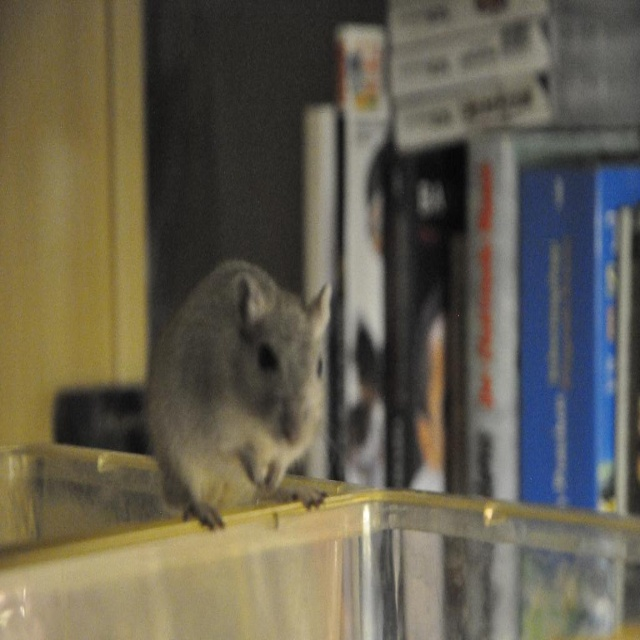Mouse: (147, 259, 328, 522)
